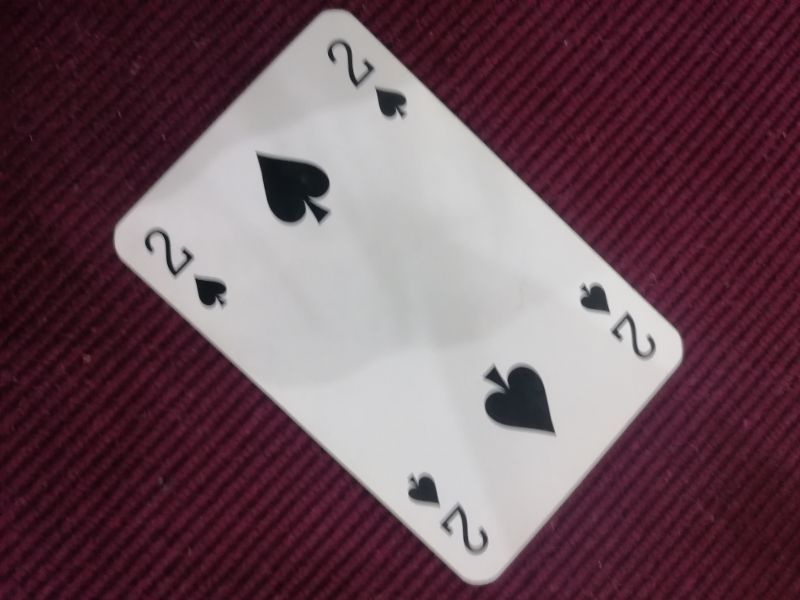2s: (140, 222, 235, 316), (402, 466, 493, 561), (323, 35, 412, 126), (575, 277, 661, 368)
